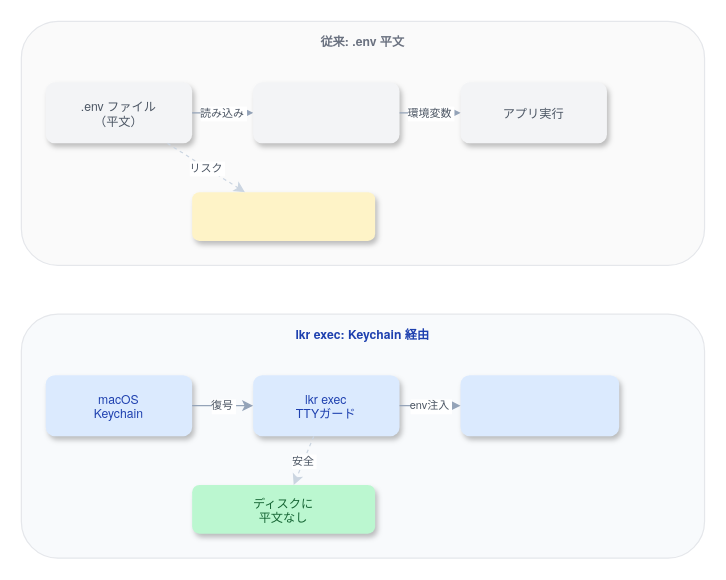
Some shapes in this 726 by 580 pixel diagram are drawn without their labels. The centre of each missing label's shape, as x and y in pixels:
source .env export: the point at 327,114
子プロセス 環境変数のみ: the point at 540,407
平文がディスク に常駐: the point at 284,218
